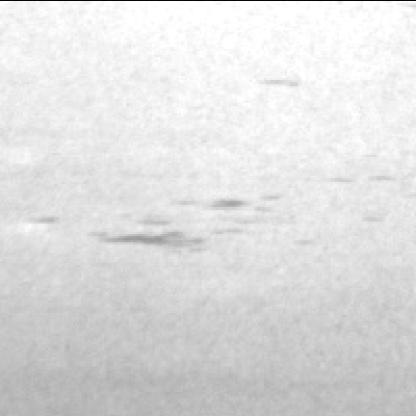inclusion: (174, 181, 302, 239), (90, 208, 216, 256)
